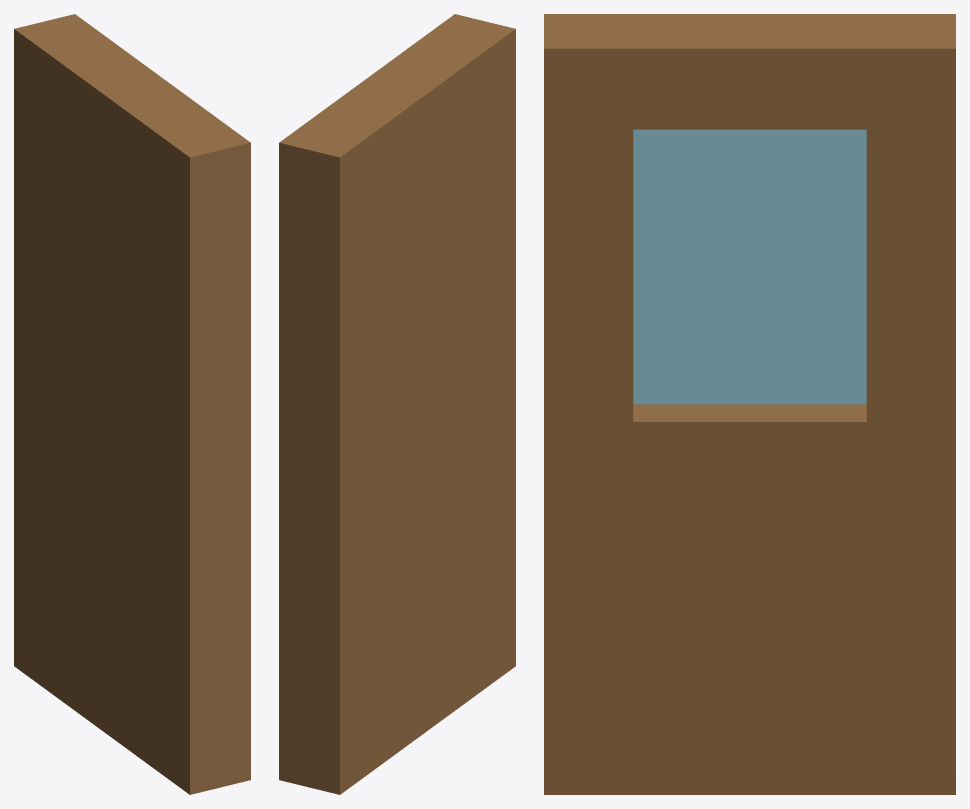
Rendered from detail_004.dae.
3 renders of one model, left to right at view 1: azimuth 30°, elevation 25°; view 2: azimuth 150°, elevation 25°; view 3: azimuth 270°, elevation 25°, orthographic. The views are drawn at different scales.
Parts seen in each view (by area): view 1: detail_004; view 2: detail_004; view 3: detail_004.
Boxes of the visible parts, x1=… form: detail_004: x1=14, y1=14, x2=250, y2=794; detail_004: x1=279, y1=14, x2=515, y2=794; detail_004: x1=544, y1=14, x2=955, y2=794.
Bounding box in the file's own units: 0.05 × 0.5 × 0.25.
